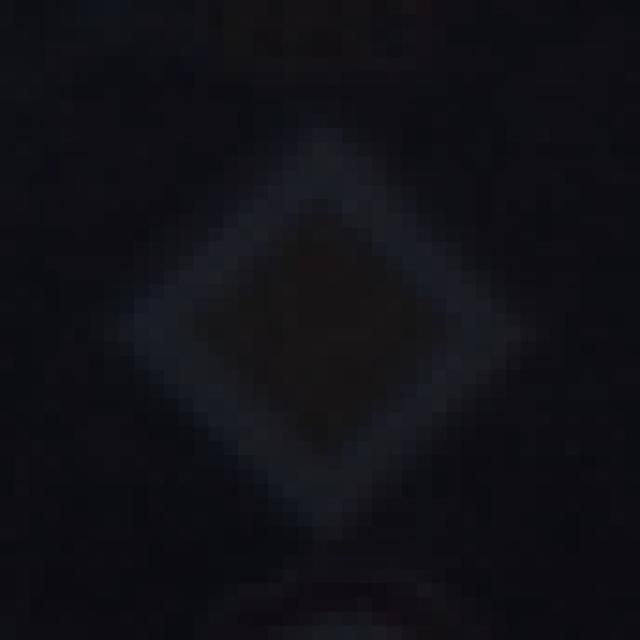Main Road: (76, 72, 567, 570)
